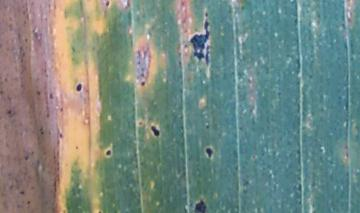tarspot: (189, 11, 210, 64), (149, 124, 160, 138), (194, 199, 205, 213), (205, 146, 214, 159), (75, 82, 83, 92), (136, 119, 144, 127), (103, 149, 112, 156), (104, 1, 111, 8), (139, 81, 147, 87), (59, 132, 63, 139)
